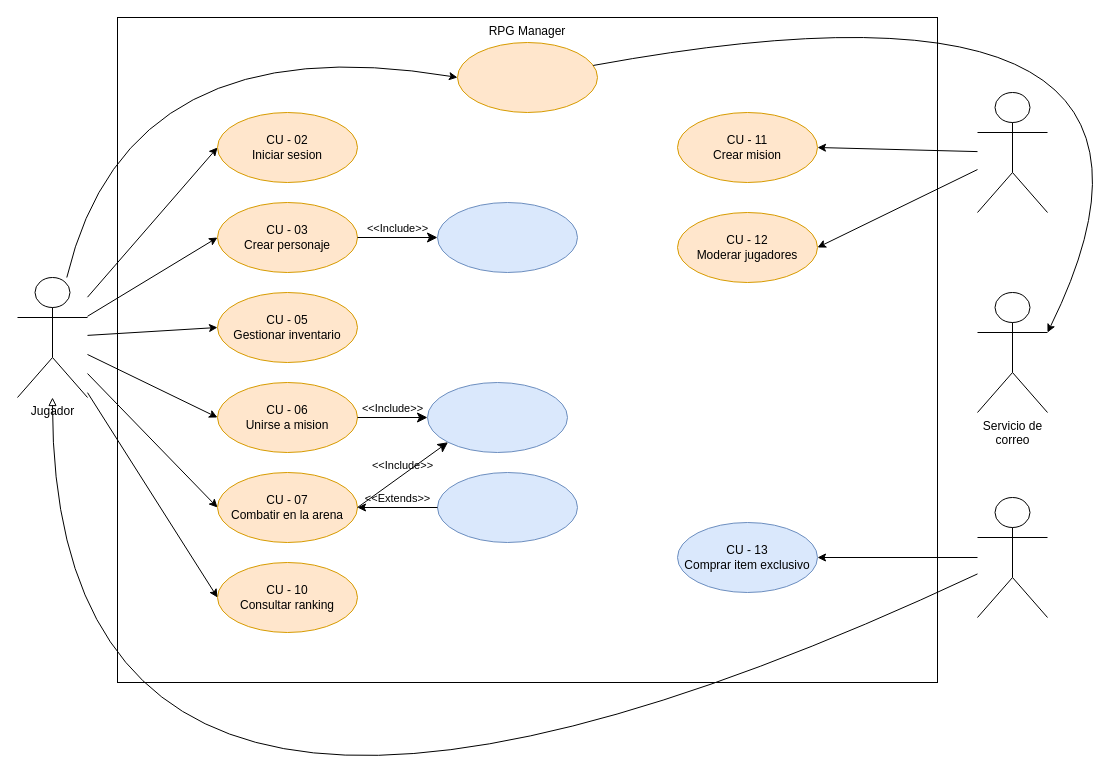
Some shapes in this 1110 by 773 pixel diagram are drawn without their labels. Each missing label, with the box of its shape:
CU - 01 Registrarse: (456, 42, 598, 112)
CU - 04 Elegir clase: (436, 202, 578, 272)
CU - 08 Validar personaje vivo: (426, 382, 568, 452)
CU - 09 Usar pocion: (436, 472, 578, 542)
Game master: (976, 92, 1048, 212)
Jugador premium: (976, 496, 1048, 618)
